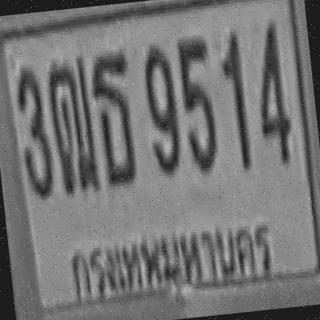A18: (44, 52, 101, 196)
A24: (88, 49, 137, 184)
N01: (218, 28, 253, 172)
N03: (12, 61, 56, 199)
N04: (249, 18, 296, 168)
N05: (174, 34, 221, 176)
N09: (139, 42, 181, 174)
P04: (64, 211, 278, 308)
